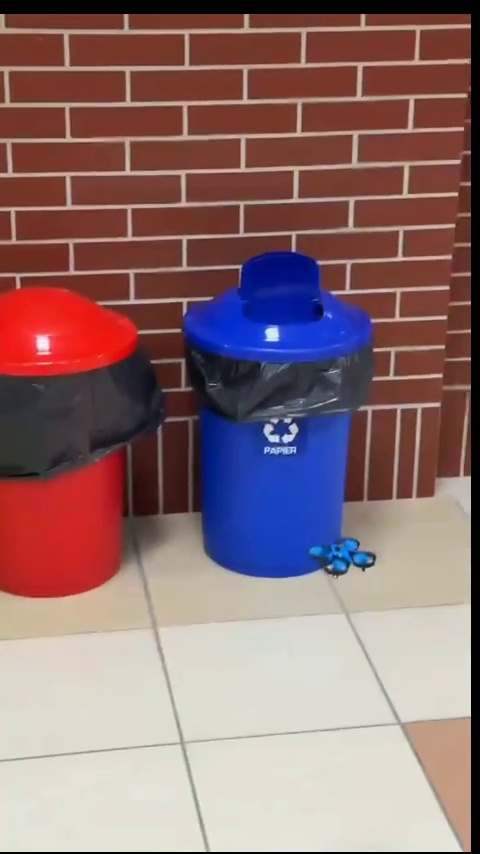drone: (310, 537, 371, 574)
